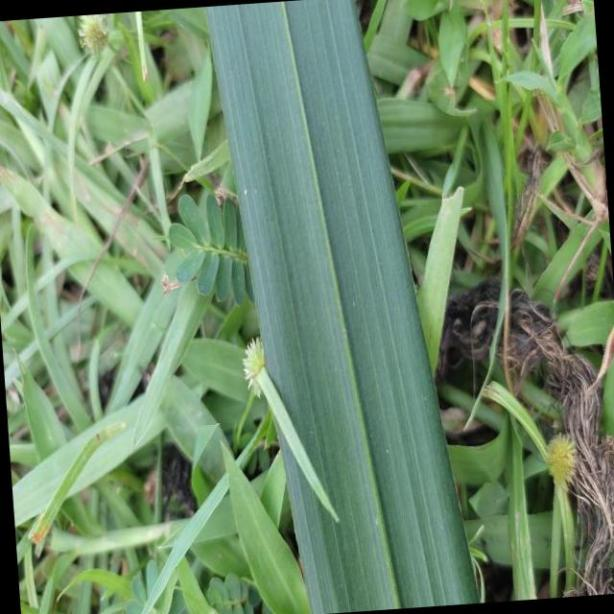Healthy: (201, 3, 483, 606)
